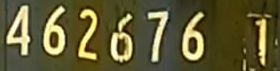four: (8, 6, 31, 57)
one: (254, 20, 270, 68)
seven: (147, 11, 171, 64)
six: (110, 14, 136, 64), (44, 8, 68, 57), (182, 13, 206, 62)
two: (79, 9, 100, 61)
